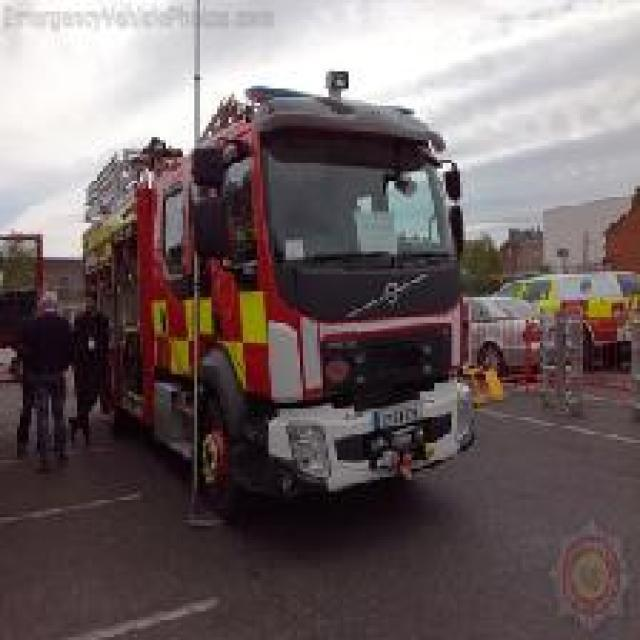emergency: (80, 66, 476, 518)
